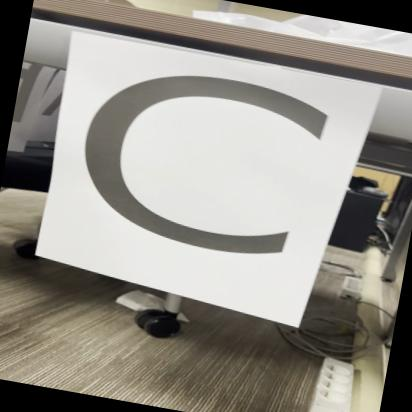seat: (44, 34, 356, 322)
